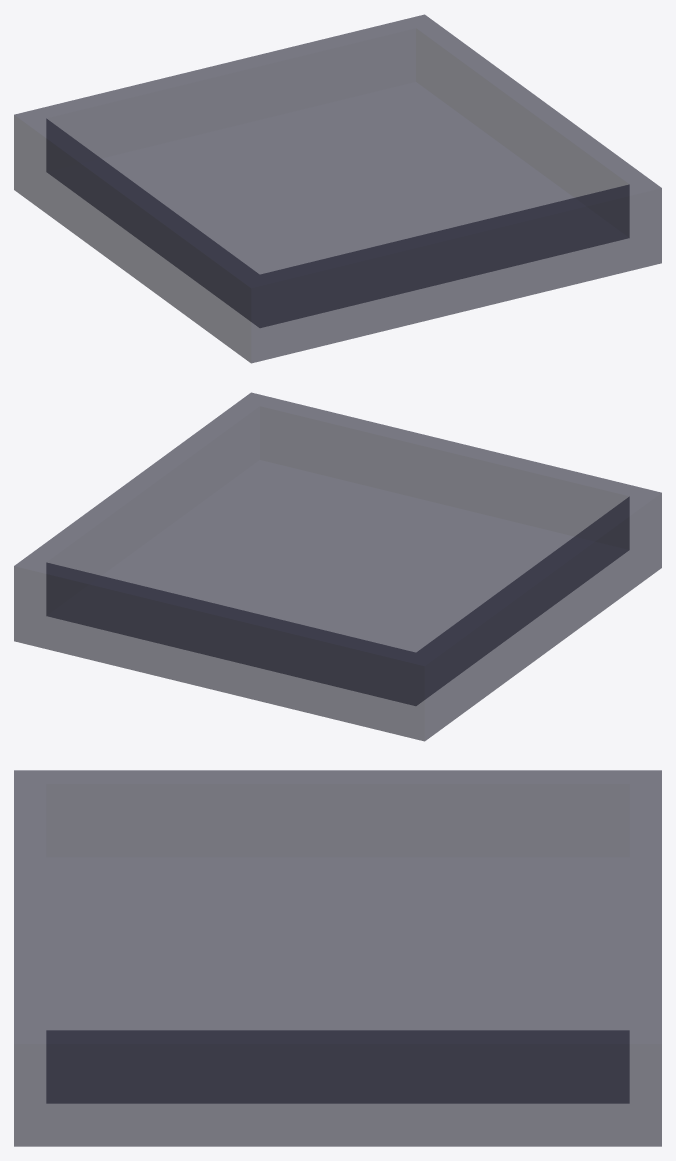
File: GlassRoof_4Edges.glb
The picture shows the model from 3 angles, top to bottom: view 1: azimuth 30°, elevation 25°; view 2: azimuth 150°, elevation 25°; view 3: azimuth 270°, elevation 25°; orthographic projection. The views are drawn at different scales.
Visible parts, largest first — view 1: roof_flat_4Edges_glass; view 2: roof_flat_4Edges_glass; view 3: roof_flat_4Edges_glass.
Boxes of the visible parts, <box> form: roof_flat_4Edges_glass: <box>14,14,661,363</box>; roof_flat_4Edges_glass: <box>14,392,661,741</box>; roof_flat_4Edges_glass: <box>14,770,661,1146</box>.
Size of what is drawn, in the model's own units: 4 by 0.7 by 4.
1 material, 1 textured.
